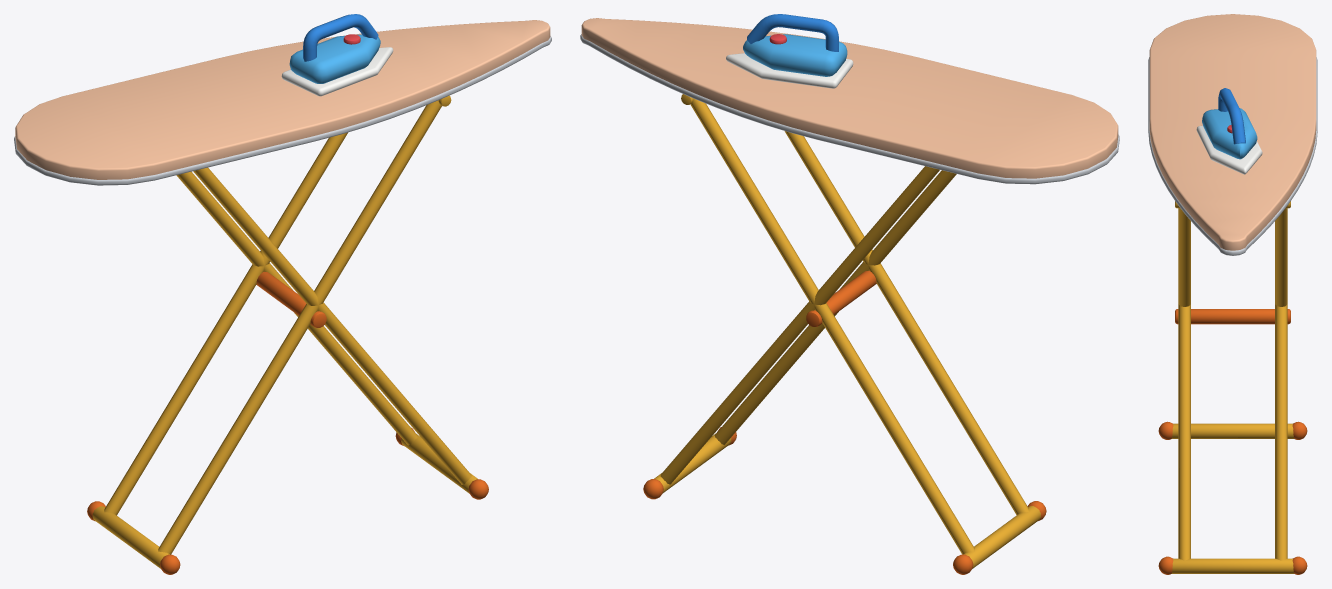
Rendered from tabua_passar_ferro.glb.
3 renders of one model, left to right at view 1: azimuth 30°, elevation 25°; view 2: azimuth 150°, elevation 25°; view 3: azimuth 270°, elevation 25°, orthographic. The views are drawn at different scales.
Parts seen in each view (by area): view 1: tabua_passar_ferro; view 2: tabua_passar_ferro; view 3: tabua_passar_ferro.
Boxes of the visible parts, x1,y1,x2,y2 form: tabua_passar_ferro: (14, 14, 551, 574); tabua_passar_ferro: (580, 14, 1119, 574); tabua_passar_ferro: (1148, 14, 1317, 574).
Bounding box in the file's own units: 1.12 × 0.979 × 0.35.
1 material, 1 textured.
